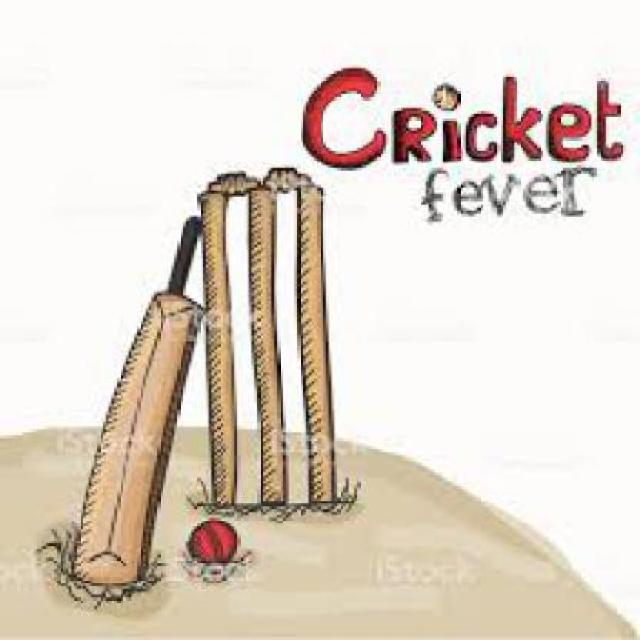ball: (174, 487, 258, 593)
